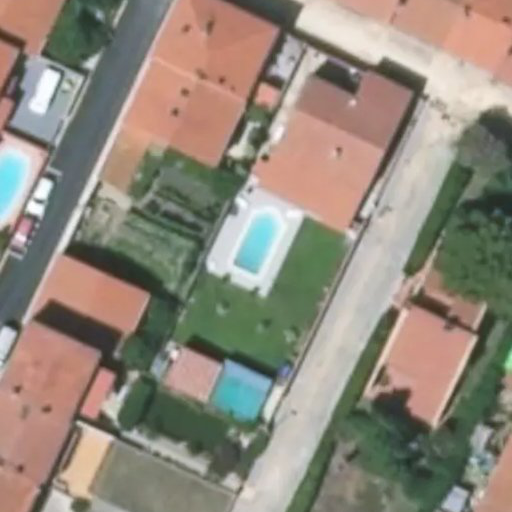pool: (231, 205, 282, 279), (1, 145, 33, 230)
